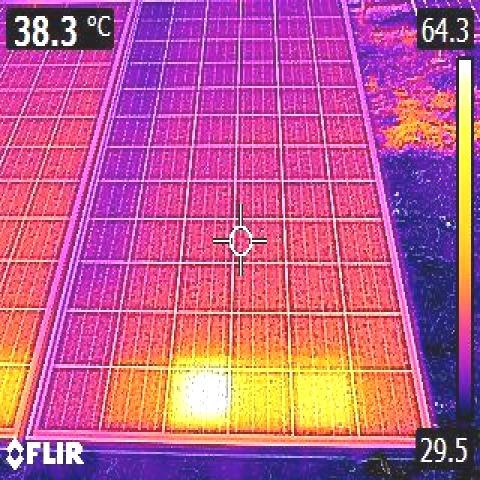fault: (173, 369, 226, 428), (232, 373, 288, 428), (298, 374, 346, 427)
